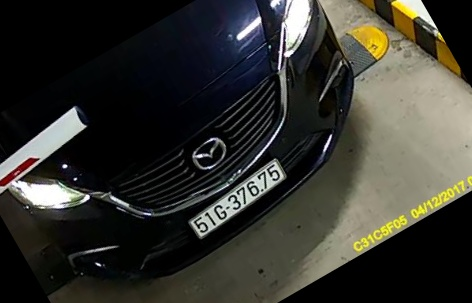plate: (183, 161, 284, 237)
